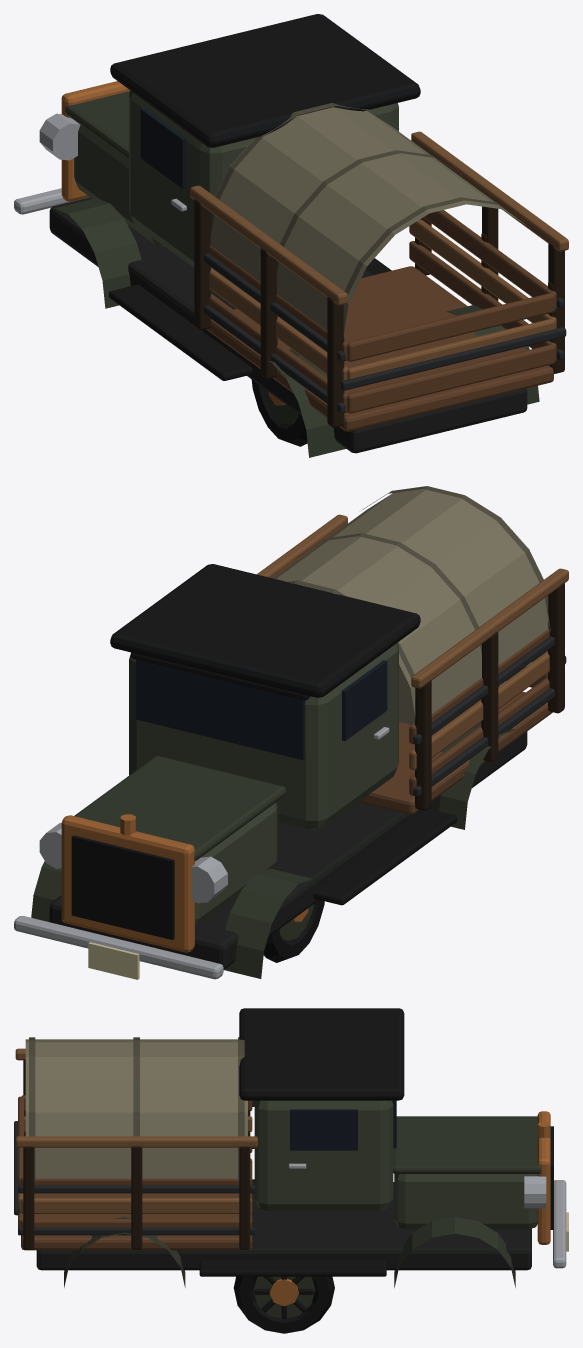
Rendered from dredge-truck.glb.
3 views of the same model, one above another, from view 1: azimuth 30°, elevation 25°; view 2: azimuth 150°, elevation 25°; view 3: azimuth 270°, elevation 25° (orthographic). The views are drawn at different scales.
Parts seen in each view (by area): view 1: body, reinforced, wheel; view 2: body, reinforced, wheel; view 3: body, reinforced, wheel.
Boxes of the visible parts, x1,y1,x2,y2 form: body: (14,14,556,457); reinforced: (190,131,568,427); wheel: (251,379,307,446); body: (14,486,552,979); reinforced: (257,514,568,810); wheel: (263,900,324,962); body: (18,1008,568,1287); reinforced: (14,1048,257,1249); wheel: (233,1276,334,1333).
Bounding box in the file's own units: 2 × 2.87 × 5.04.
